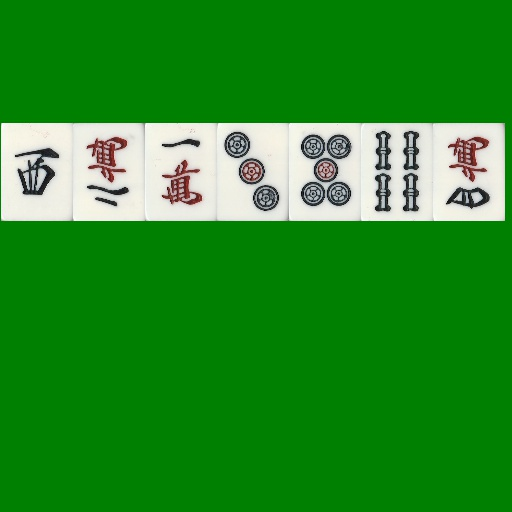1m: (145, 123, 217, 221)
2m: (73, 123, 145, 221)
3p: (217, 123, 289, 221)
4m: (433, 123, 505, 221)
4s: (361, 123, 433, 221)
5p: (289, 123, 361, 221)
west: (1, 123, 73, 221)
